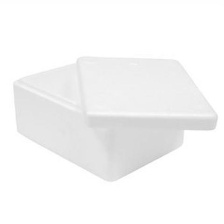foam_box: (7, 48, 222, 184)
